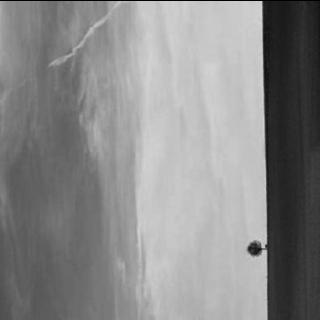Cirrostratus: (1, 0, 260, 320)
